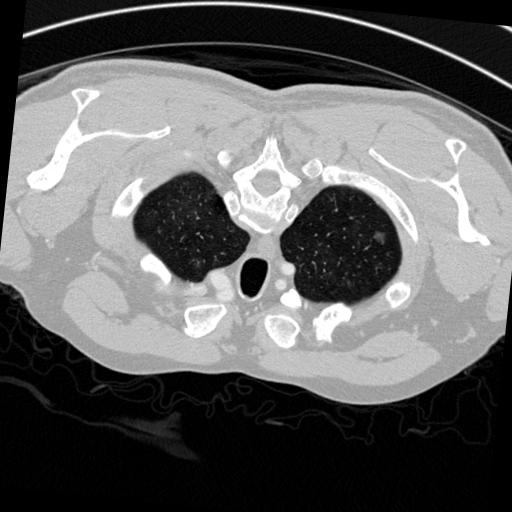nodule: (370, 229, 388, 247)
